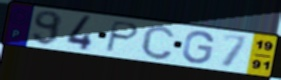4: (65, 14, 95, 52)
7: (220, 33, 248, 69)
9: (31, 10, 64, 48)
C: (139, 24, 177, 61)
G: (180, 30, 216, 65)
P: (103, 19, 141, 54)
